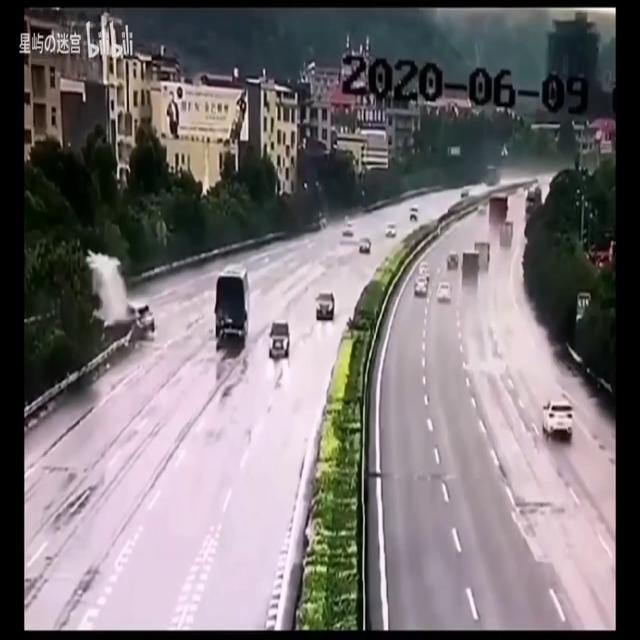normal: (192, 225, 307, 390), (500, 353, 587, 465), (398, 208, 470, 320)
single accident: (73, 270, 173, 365)
